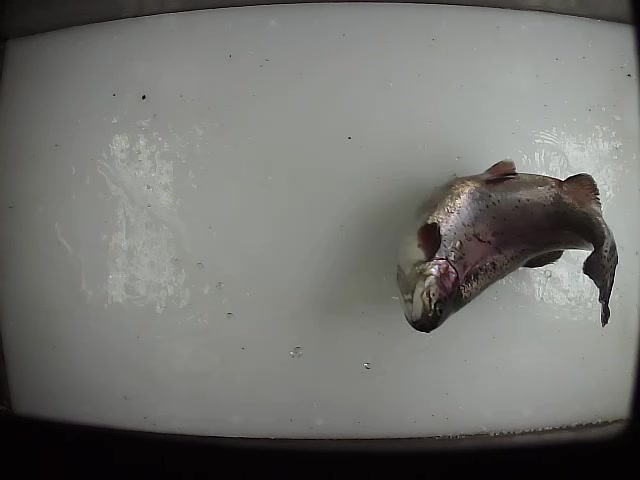fish: (394, 157, 621, 336)
